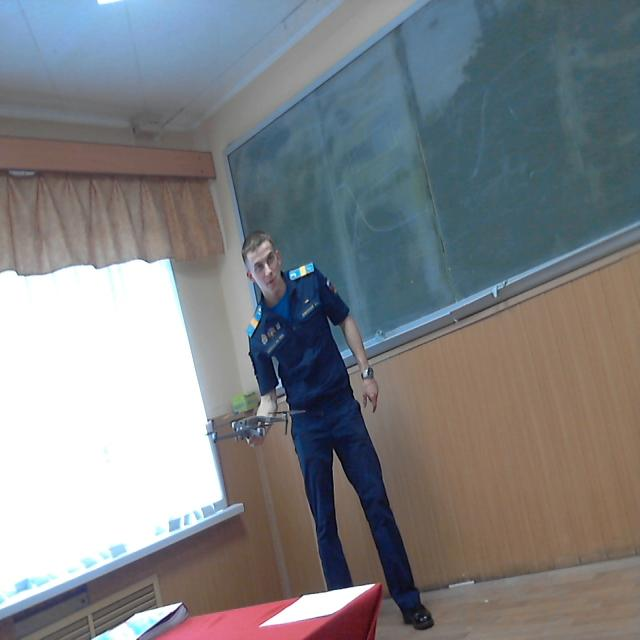drone: (200, 395, 312, 455)
